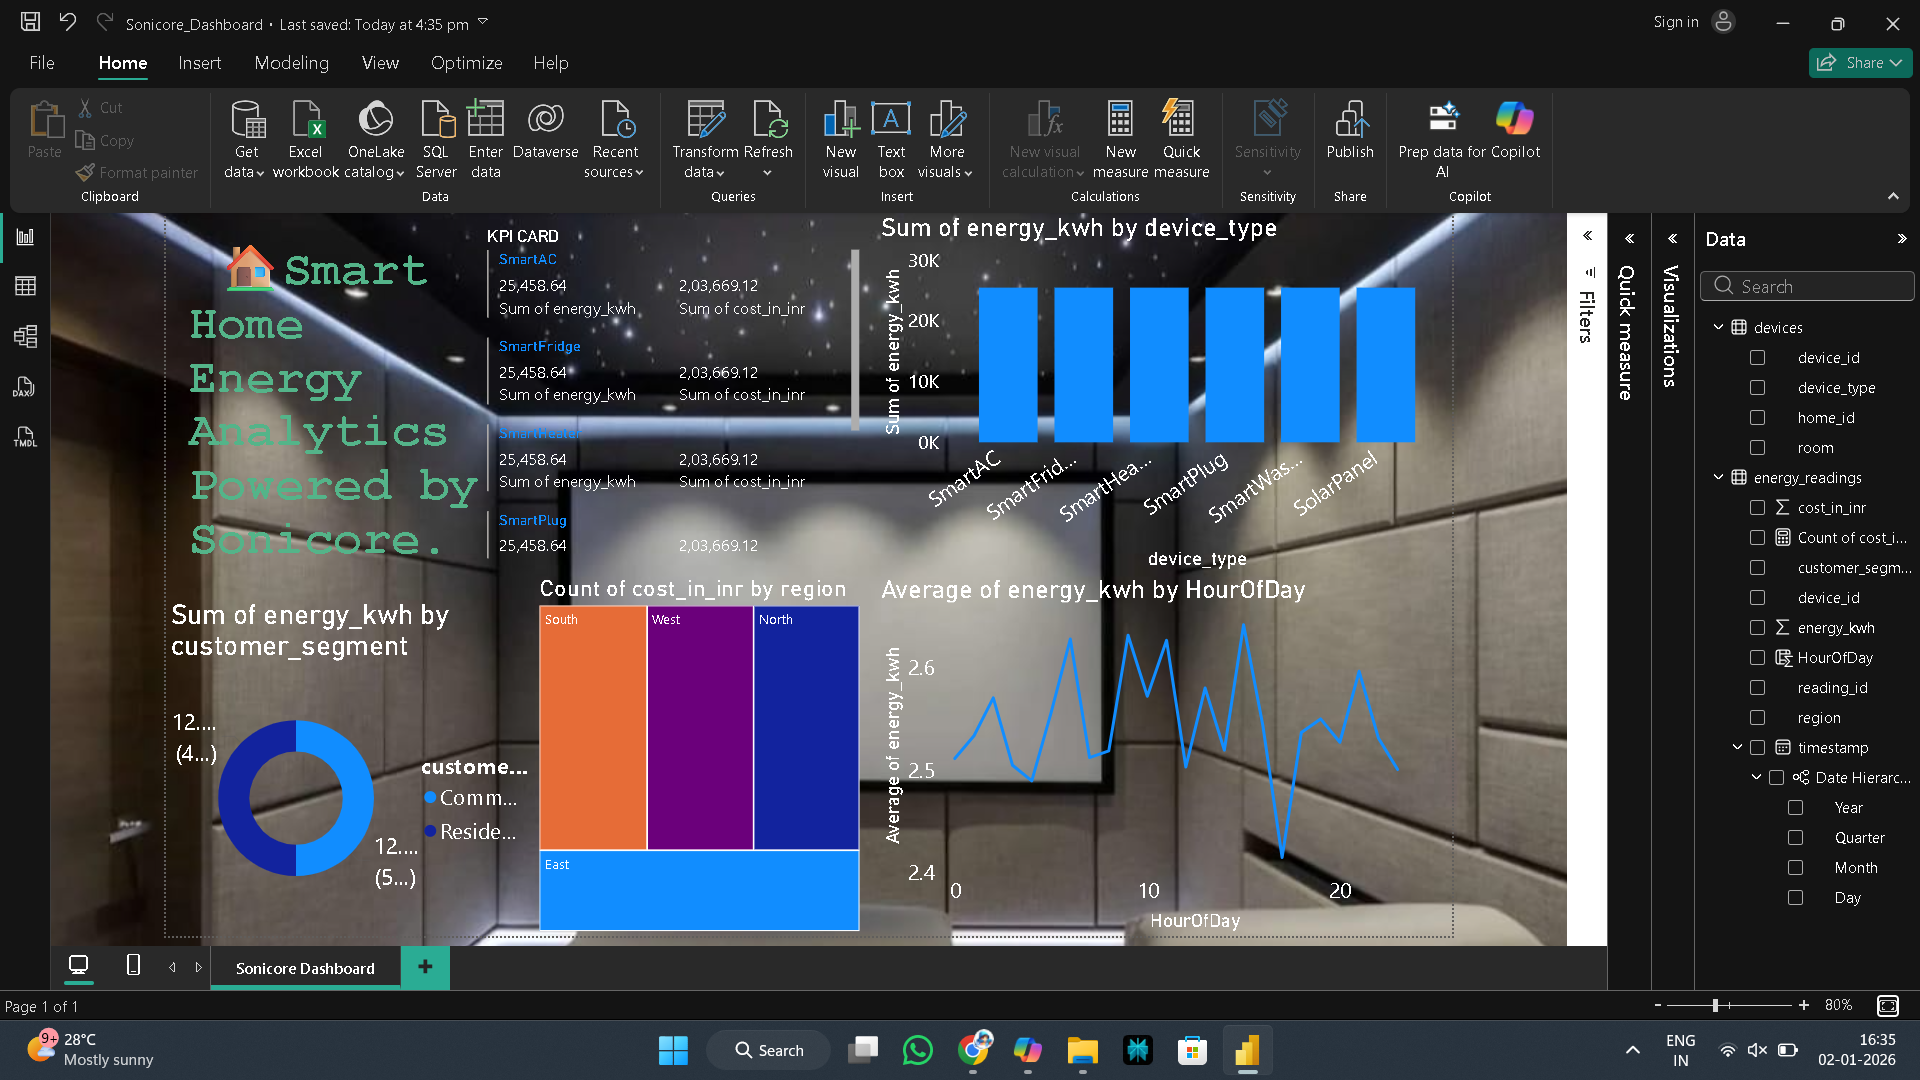

This screenshot's page, from the dashboard's own definition file:
{"tool":"powerbi","page":{"name":"Sonicore Dashboard","canvas":[1280,720],"ordinal":0},"visuals":[{"type":"treemap","fields":{"Group":["energy_readings.region"],"Values":["CountNonNull(energy_readings.cost_in_inr)"]},"box":[367.3,360,328.2,360],"z":0},{"type":"donutChart","fields":{"Category":["energy_readings.customer_segment"],"Y":["Sum(energy_readings.energy_kwh)"]},"box":[0,383.6,367.3,336.4],"z":1000},{"type":"columnChart","fields":{"Category":["devices.device_type"],"Y":["Sum(energy_readings.energy_kwh)"]},"box":[706.4,0,573.6,360],"z":2000},{"type":"lineChart","fields":{"Y":["Avg(energy_readings.energy_kwh)"],"Category":["energy_readings.HourOfDay"]},"box":[706.4,360,573.6,360],"z":3000},{"type":"textbox","box":[17.5,13.8,320,360],"z":4000},{"type":"multiRowCard","title":"KPI CARD","fields":{"Values":["Sum(energy_readings.energy_kwh)","Sum(energy_readings.cost_in_inr)","devices.device_type"]},"box":[315,13,380,336],"z":4001}]}

Visuals, with their boxes on the page's 1280x720 design canvas (x1, y1, x2, y2). These are canvas units, not pixel positions in the 1920x1080 screenshot, which may show the page scaled, cropped or inside an application window:
treemap - energy_readings.region x CountNonNull(energy_readings.cost_in_inr): bbox(367, 360, 696, 720)
donutChart - energy_readings.customer_segment x Sum(energy_readings.energy_kwh): bbox(0, 384, 367, 720)
columnChart - devices.device_type x Sum(energy_readings.energy_kwh): bbox(706, 0, 1280, 360)
lineChart - Avg(energy_readings.energy_kwh) x energy_readings.HourOfDay: bbox(706, 360, 1280, 720)
textbox: bbox(18, 14, 338, 374)
"KPI CARD" multiRowCard: bbox(315, 13, 695, 349)
